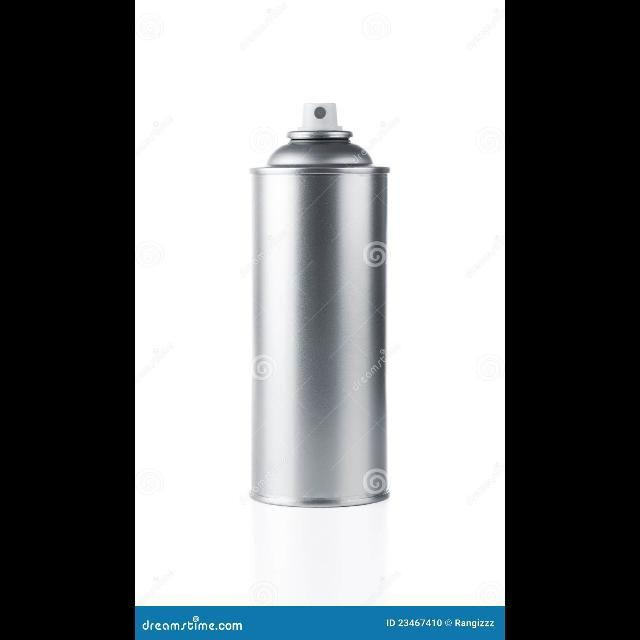chemical_spray_can: (228, 87, 412, 536)
